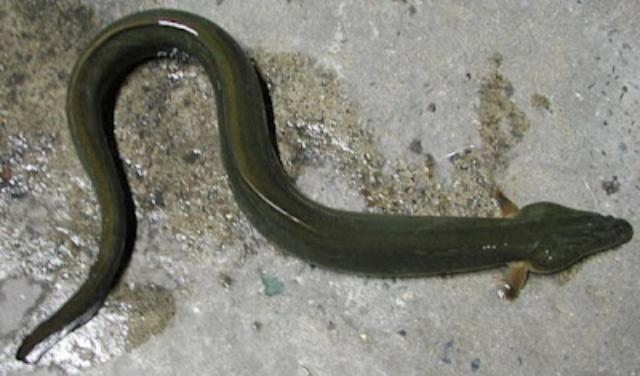Sirip Ekor: (1, 262, 110, 376)
